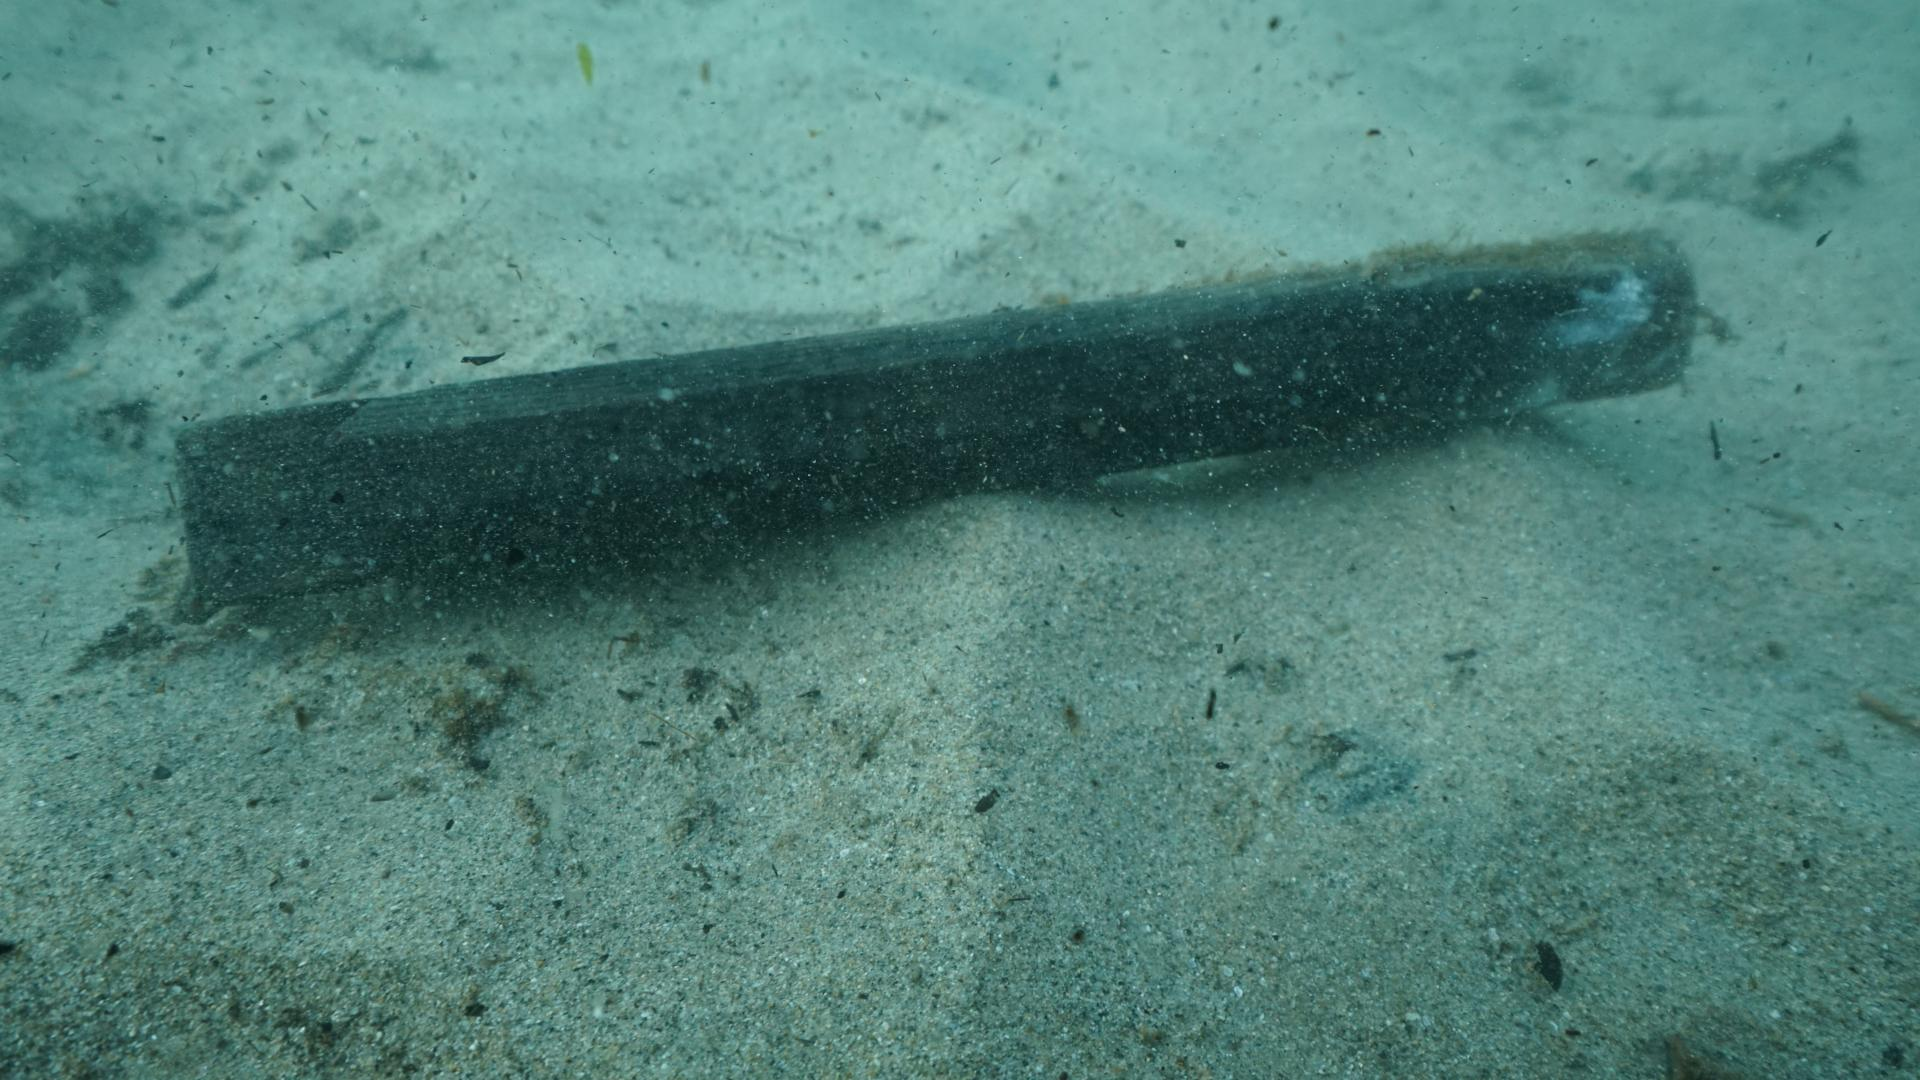wood: (156, 215, 1698, 625)
